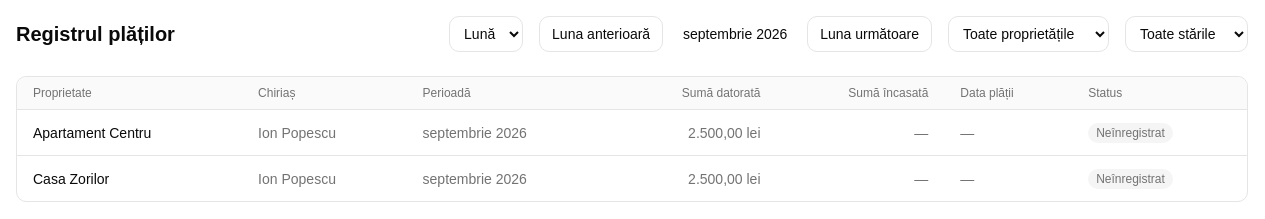
Scenario: PaymentsLedgerPage › the property filter narrows the rows shown
Select "Casa Zorilor" in the dropdown named "Proprietate" at (1028, 34), box 948,16 -> 1109,52
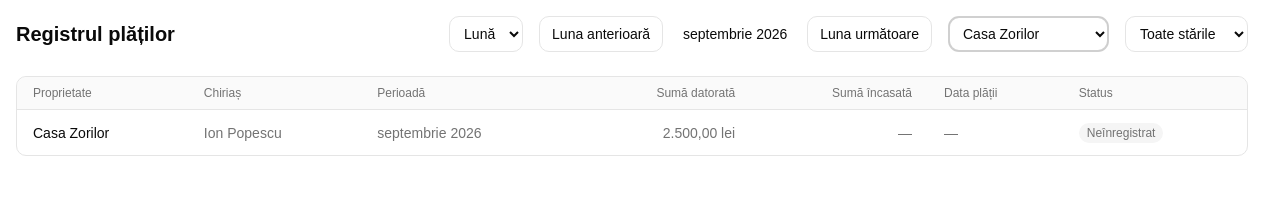
Expected: the text "Casa Zorilor" is shown, 17,110 -> 188,155
Now the text "Apartament Centru" is gone
